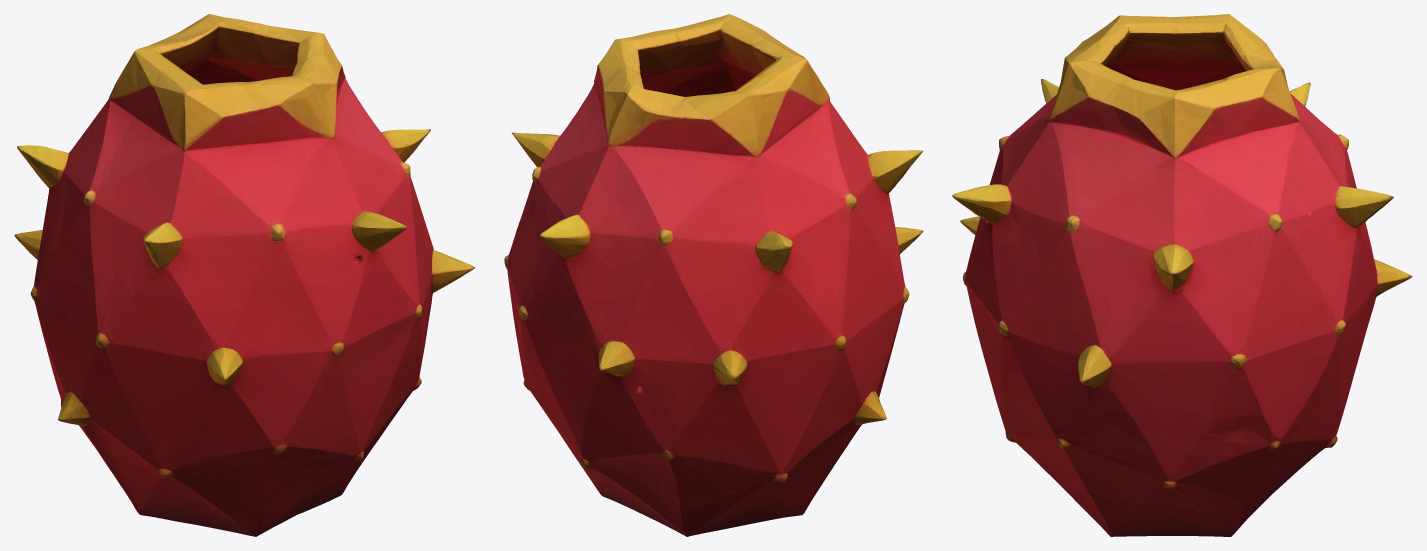
Rendered from cactus_fruit.glb.
3 renders of one model, left to right at view 1: azimuth 30°, elevation 25°; view 2: azimuth 150°, elevation 25°; view 3: azimuth 270°, elevation 25°, orthographic. The views are drawn at different scales.
Parts seen in each view (by area): view 1: world; view 2: world; view 3: world.
Part boxes in pixels (x1=…): world: x1=14, y1=14, x2=474, y2=536; world: x1=504, y1=14, x2=923, y2=536; world: x1=952, y1=14, x2=1412, y2=536.
Bounding box in the file's own units: 0.8672 × 0.9774 × 0.9021.
1 material, 1 textured.
